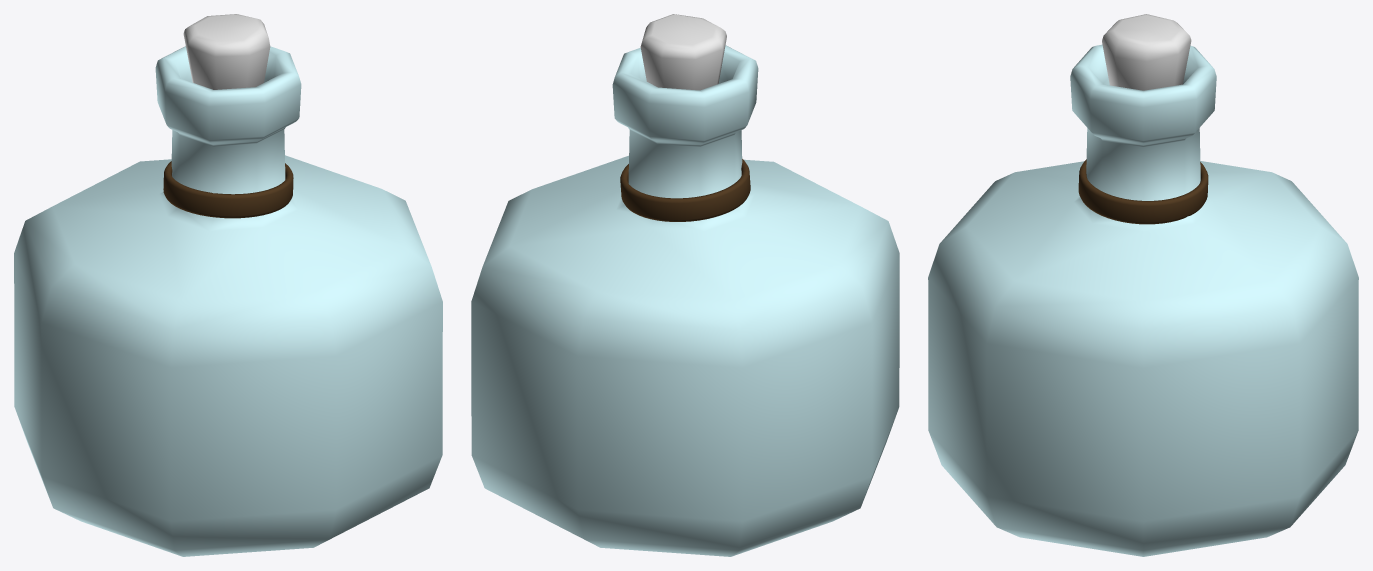
The model's file is m_BluePotion3.fbx.
The picture shows the model from 3 angles, left to right: view 1: azimuth 30°, elevation 25°; view 2: azimuth 150°, elevation 25°; view 3: azimuth 270°, elevation 25°; orthographic projection.
Visible parts, largest first — view 1: m_BluePotion3; view 2: m_BluePotion3; view 3: m_BluePotion3.
Part boxes in pixels (x1=…): m_BluePotion3: x1=14, y1=14, x2=442, y2=556; m_BluePotion3: x1=471, y1=14, x2=899, y2=556; m_BluePotion3: x1=928, y1=14, x2=1358, y2=556.
Bounding box in the file's own units: 53.97 × 65.01 × 53.97.
